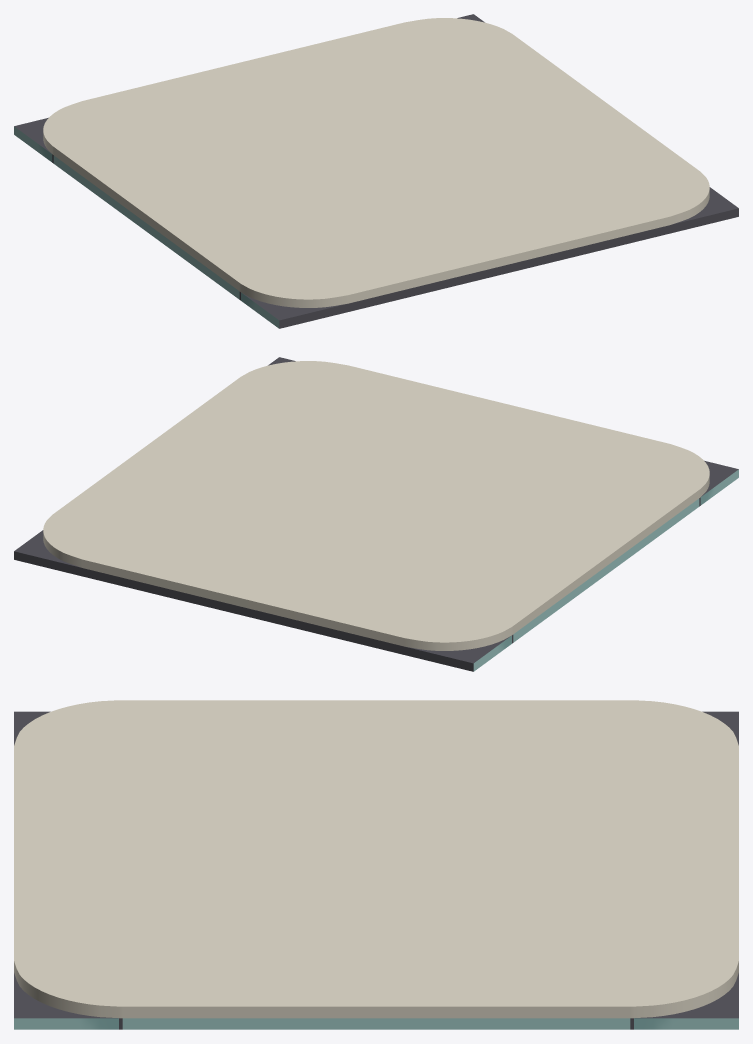
The model's file is pavement intersection circle.fbx.
The picture shows the model from 3 angles, top to bottom: view 1: azimuth 30°, elevation 25°; view 2: azimuth 150°, elevation 25°; view 3: azimuth 270°, elevation 25°; orthographic projection. The views are drawn at different scales.
Parts seen in each view (by area): view 1: pavement_intersection_circle; view 2: pavement_intersection_circle; view 3: pavement_intersection_circle.
Boxes of the visible parts, x1=… form: pavement_intersection_circle: x1=14, y1=14, x2=738, y2=328; pavement_intersection_circle: x1=14, y1=357, x2=738, y2=671; pavement_intersection_circle: x1=14, y1=700, x2=738, y2=1029.
Size of the model in its own units: 1000 by 35.23 by 1000.
